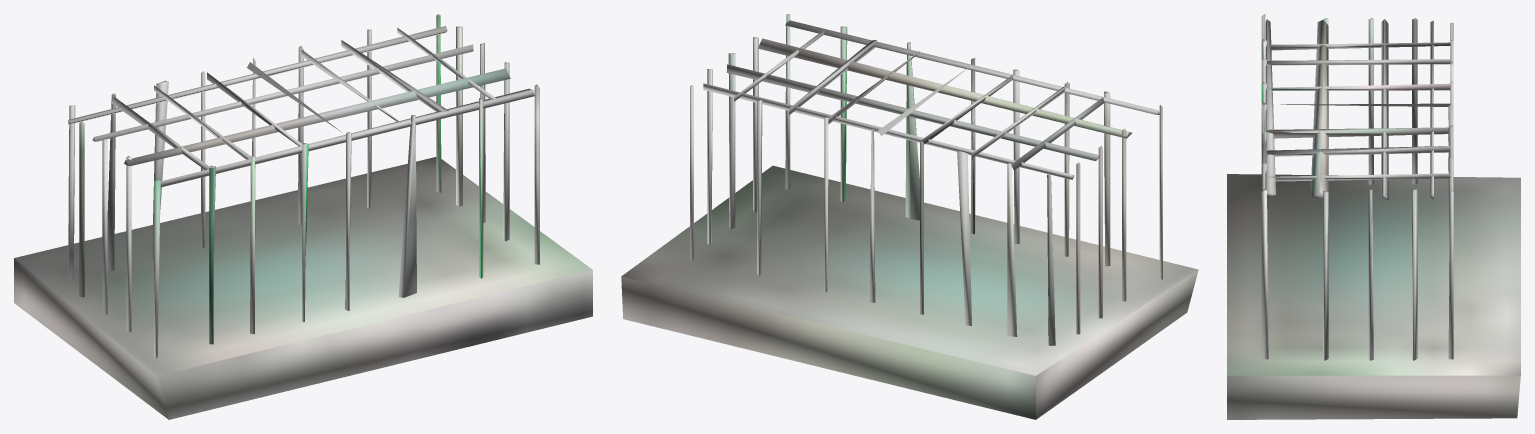
Rendered from office-lab-tube-rack.glb.
3 renders of one model, left to right at view 1: azimuth 30°, elevation 25°; view 2: azimuth 150°, elevation 25°; view 3: azimuth 270°, elevation 25°, orthographic. The views are drawn at different scales.
Visible parts, largest first — view 1: lab-tube-rack; view 2: lab-tube-rack; view 3: lab-tube-rack.
Part boxes in pixels (box(x1,y1,x2,y2)): lab-tube-rack: box(14, 14, 592, 419); lab-tube-rack: box(621, 14, 1198, 419); lab-tube-rack: box(1227, 14, 1520, 419).
Bounding box in the file's own units: 0.26 × 0.1285 × 0.1602.
1 material, 1 textured.
